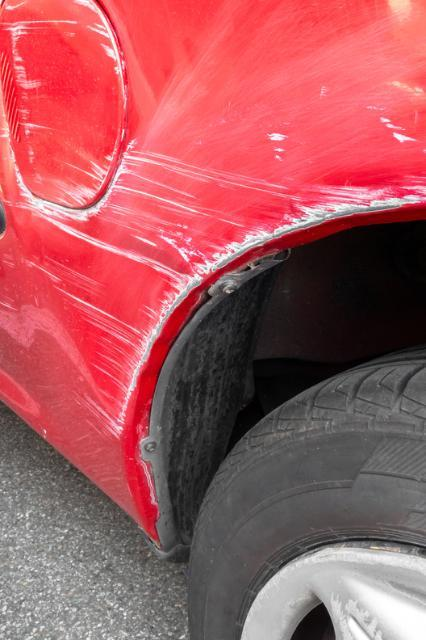Fender: (0, 0, 426, 462)
